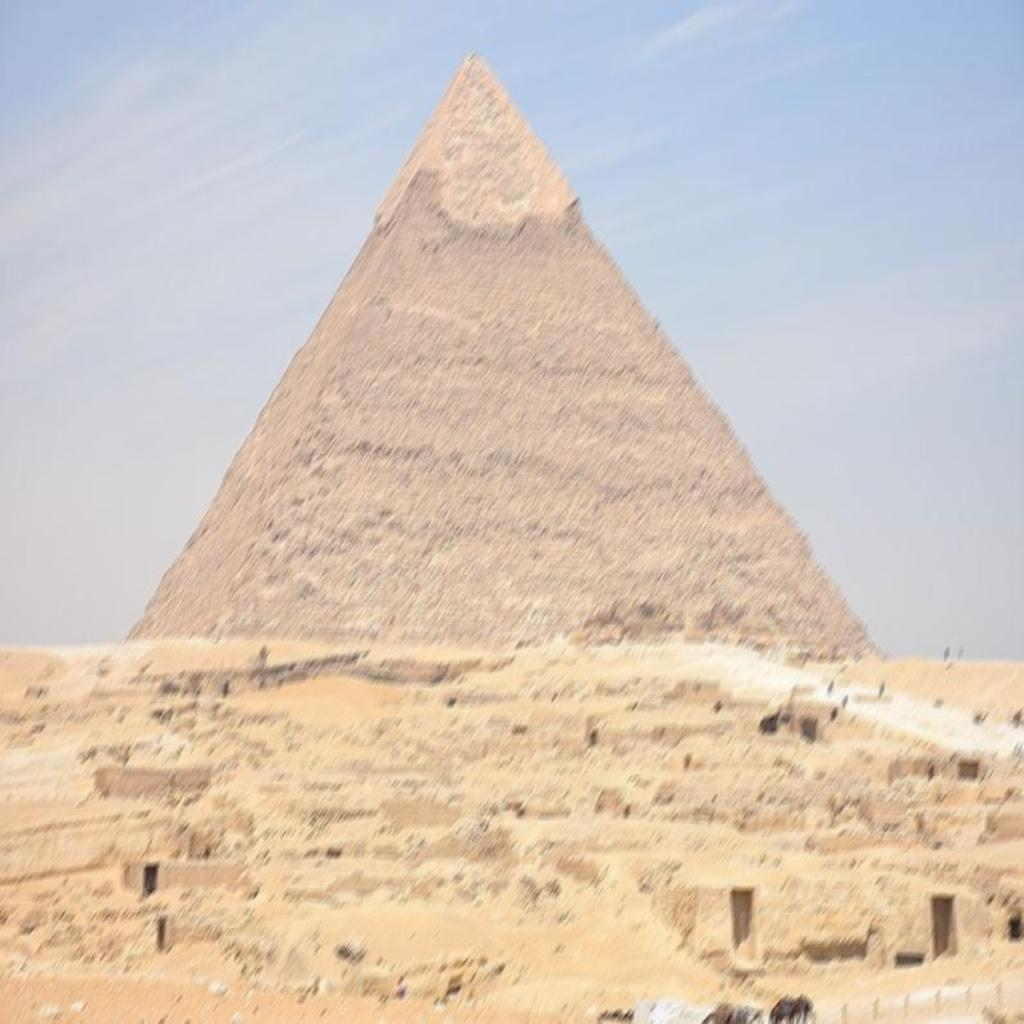Great Pyramids of Giza: (123, 46, 882, 653)
